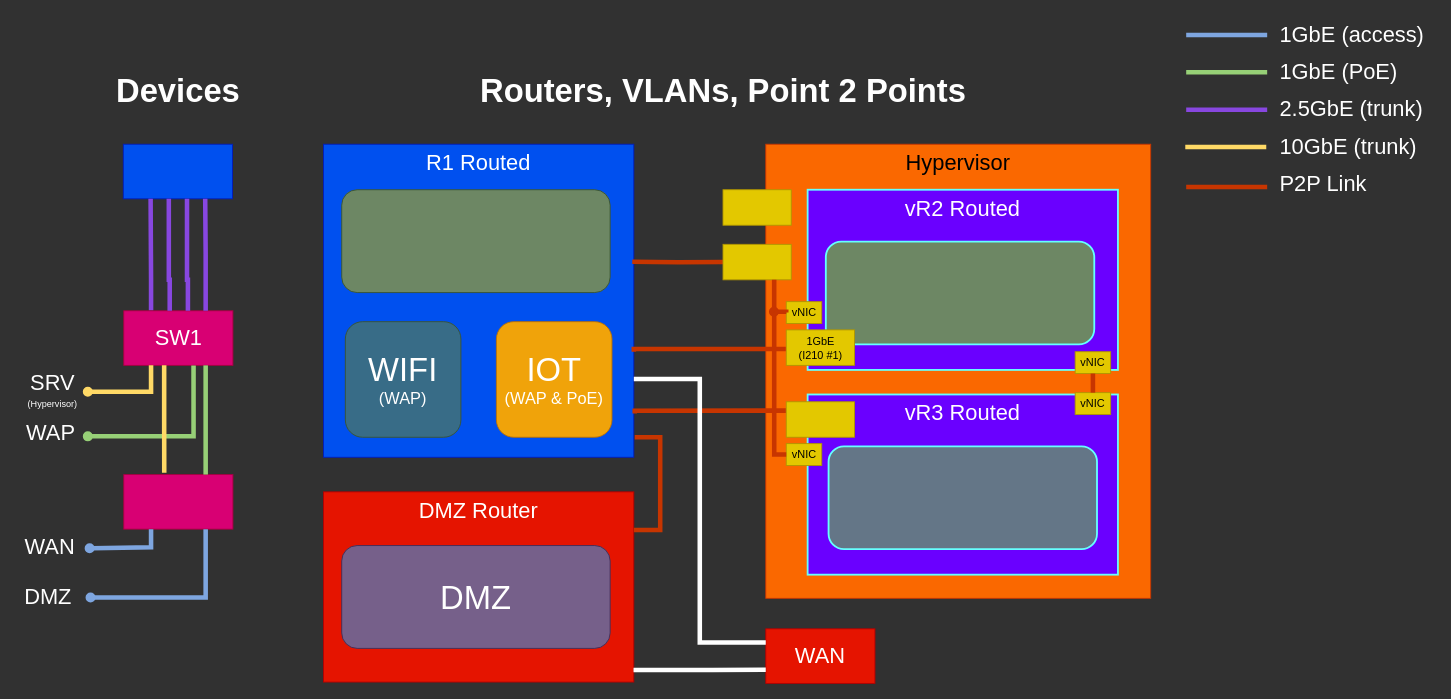
Image size: 1451x699. Some labels were removed from this diagram. Each missing label, with the centre of its shape:
"10GbE (NetXtreme #1)" belongs at (756,261).
"10GbE (NetXtreme #2)" belongs at (756,207).
"1GbE (I210 #2)" belongs at (819,419).
"LabVirtual (Linux Bridge in Hypervisor)" belongs at (962,497).
"LAN (Physical)" belongs at (475,241).
"LanVirtual (Linux Bridge in Hypervisor)" belongs at (959,292).
"R1" belongs at (177,171).
"SW2" belongs at (178,501).
